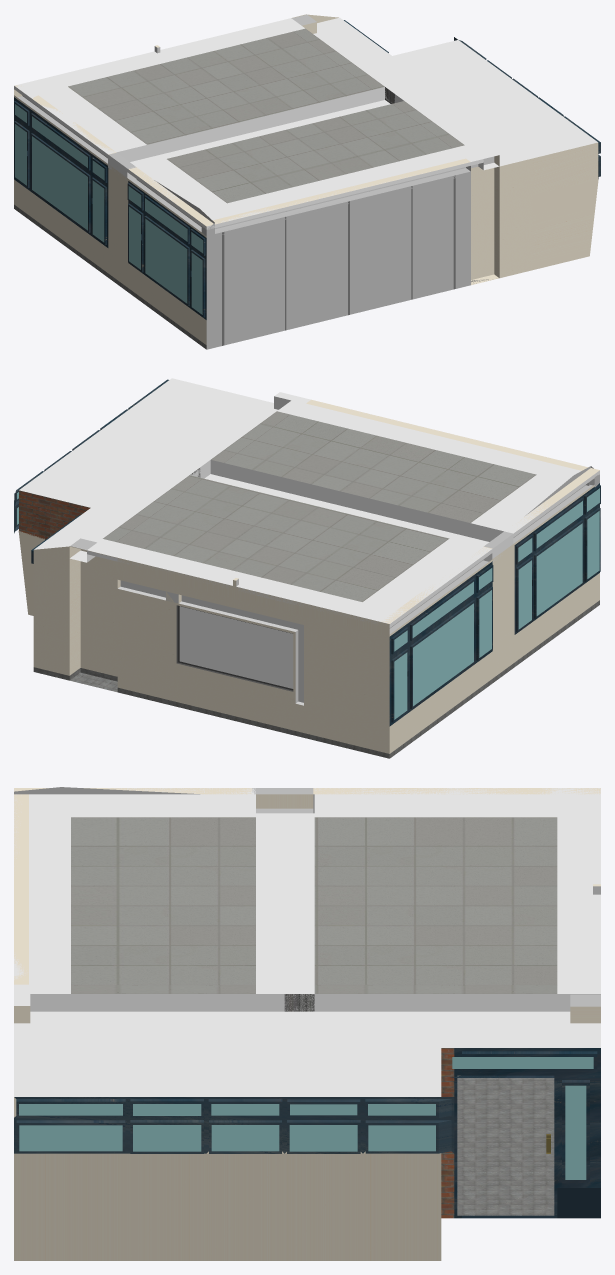
The model's file is AULABUENA_.fbx.
The picture shows the model from 3 angles, top to bottom: view 1: azimuth 30°, elevation 25°; view 2: azimuth 150°, elevation 25°; view 3: azimuth 270°, elevation 25°; orthographic projection. The views are drawn at different scales.
Visible parts, largest first — view 1: Paredes, Paredes.001, Paredes.003, Paredes.002; view 2: Paredes, Paredes.003, Ladrillo; view 3: Paredes, Paredes.003, Ladrillo.001.
Part boxes in pixels (<box>): Paredes: <box>14,14,600,349</box>; Paredes.001: <box>206,174,470,349</box>; Paredes.003: <box>14,18,483,229</box>; Paredes.002: <box>222,177,455,345</box>; Paredes: <box>14,378,600,758</box>; Paredes.003: <box>87,396,599,627</box>; Ladrillo: <box>19,490,90,539</box>; Paredes: <box>14,787,600,1260</box>; Paredes.003: <box>14,788,600,999</box>; Ladrillo.001: <box>441,1048,454,1218</box>.
Size of the model in its own units: 3155 by 978 by 2650.
